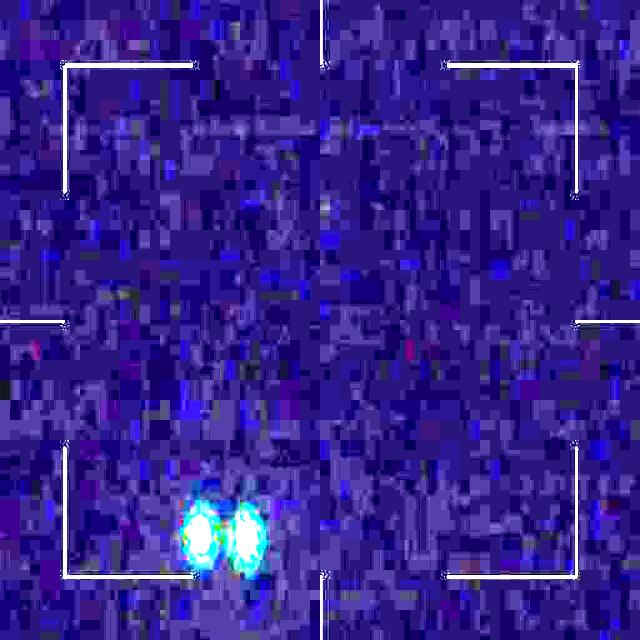bird: (186, 512, 260, 564)
